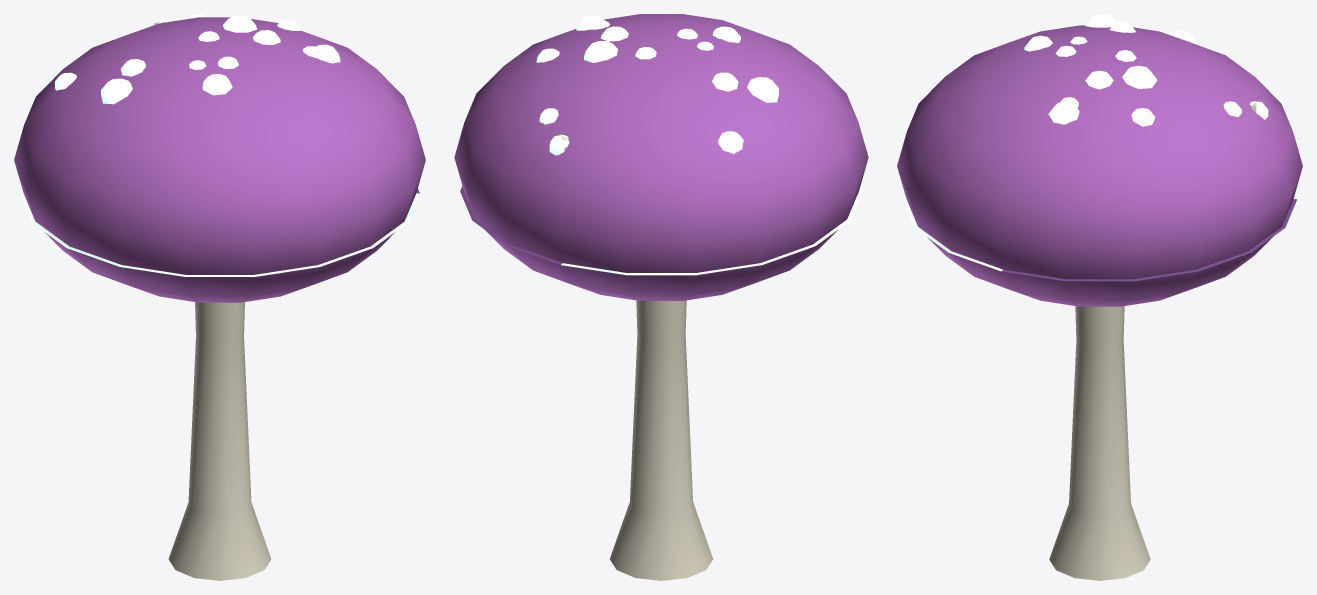
File: mushroom_giant.glb
The picture shows the model from 3 angles, left to right: view 1: azimuth 30°, elevation 25°; view 2: azimuth 150°, elevation 25°; view 3: azimuth 270°, elevation 25°; orthographic projection. The views are drawn at different scales.
Visible parts, largest first — view 1: Mushroom_Giant; view 2: Mushroom_Giant; view 3: Mushroom_Giant.
Boxes of the visible parts, x1,y1,x2,y2 form: Mushroom_Giant: [14, 14, 425, 580]; Mushroom_Giant: [454, 14, 868, 580]; Mushroom_Giant: [897, 14, 1302, 580].
Bounding box in the file's own units: 7.09 × 10 × 7.2.
